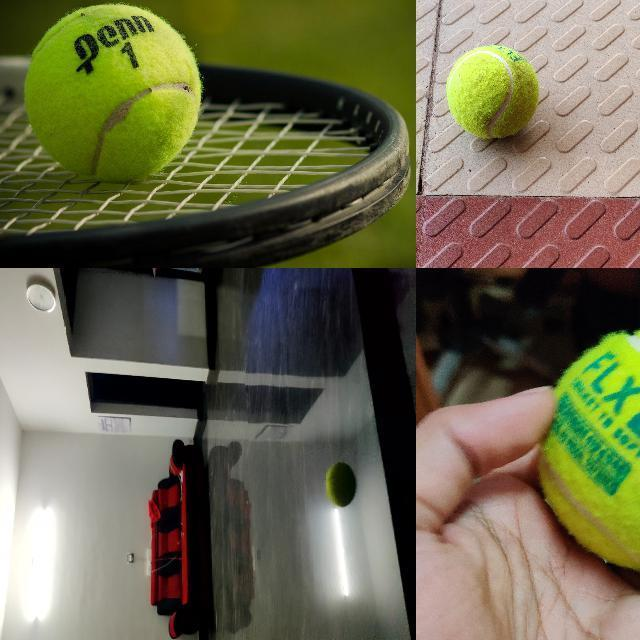tennis-ball: (24, 2, 203, 182), (537, 326, 639, 570), (446, 45, 539, 137), (325, 462, 356, 507)
